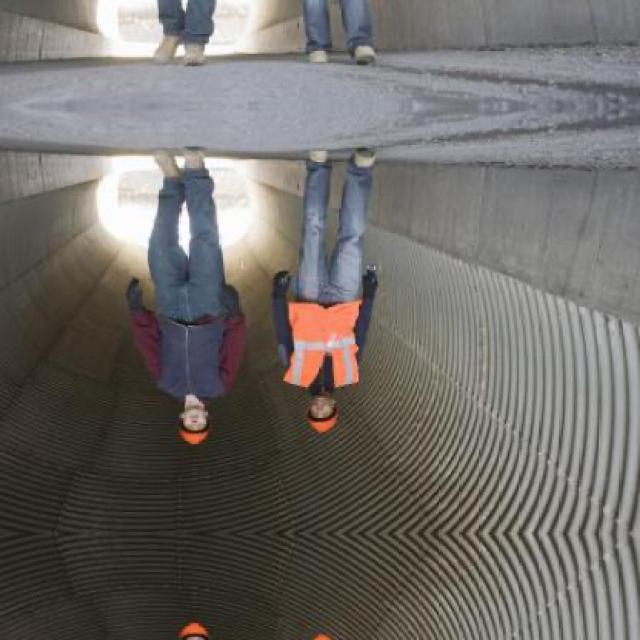con casco: (142, 359, 216, 464), (287, 368, 370, 451)
